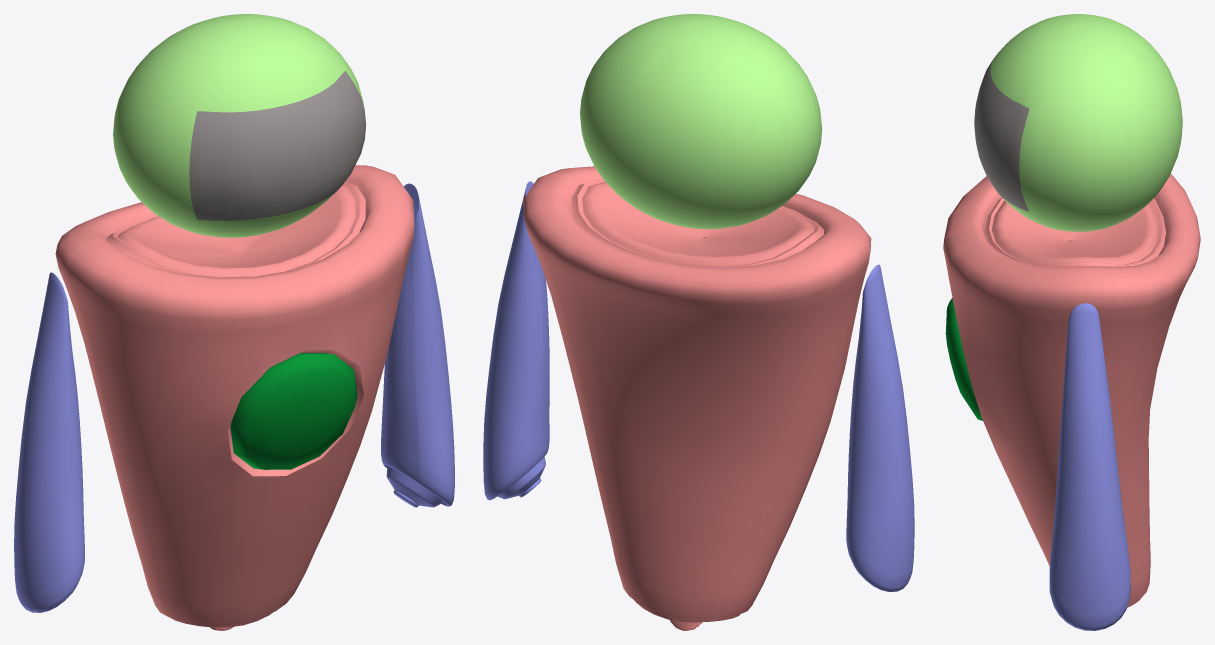
File: walliii.FBX
3 renders of one model, left to right at view 1: azimuth 30°, elevation 25°; view 2: azimuth 150°, elevation 25°; view 3: azimuth 270°, elevation 25°, orthographic. The views are drawn at different scales.
Visible parts, largest first — view 1: body.001, tete.001, righthand.001, righthand.002, Object; view 2: body.001, tete.001, righthand.001, righthand.002; view 3: body.001, tete.001, righthand.002, Object.
Boxes of the visible parts, box(x1,y1,x2,y2) form: body.001: box(55, 165, 414, 630); tete.001: box(113, 14, 366, 237); righthand.001: box(14, 272, 84, 612); righthand.002: box(381, 183, 454, 507); Object: box(230, 353, 357, 469); body.001: box(522, 166, 871, 630); tete.001: box(580, 14, 822, 229); righthand.001: box(846, 264, 914, 591); righthand.002: box(483, 181, 549, 500); body.001: box(943, 173, 1200, 607); tete.001: box(974, 14, 1182, 231); righthand.002: box(1049, 303, 1130, 630); Object: box(945, 298, 982, 420).
Bounding box in the file's own units: 75.38 × 103 × 40.92.
